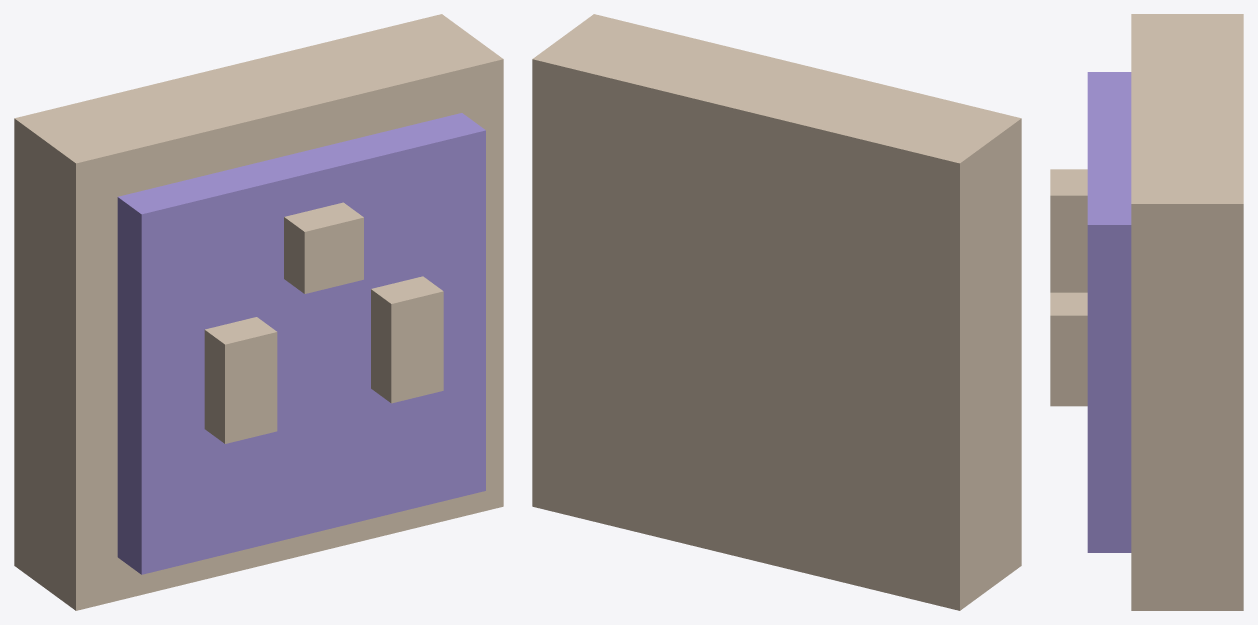
Rendered from socket.gltf.
3 renders of one model, left to right at view 1: azimuth 30°, elevation 25°; view 2: azimuth 150°, elevation 25°; view 3: azimuth 270°, elevation 25°, orthographic. The views are drawn at different scales.
Visible parts, largest first — view 1: plate, frame, contact_l, contact_r, earth; view 2: frame; view 3: frame, plate, contact_r, earth, contact_l.
Boxes of the visible parts, <box> form: plate: <box>117,113,485,574</box>; frame: <box>14,14,503,610</box>; contact_l: <box>204,317,277,443</box>; contact_r: <box>371,276,443,403</box>; earth: <box>284,202,363,293</box>; frame: <box>532,14,1021,610</box>; frame: <box>1131,14,1243,610</box>; plate: <box>1087,72,1131,552</box>; contact_r: <box>1050,292,1087,406</box>; earth: <box>1050,169,1087,252</box>; contact_l: <box>1050,252,1087,292</box>.
Size of the model in its own units: 0.18 by 0.18 by 0.0775.
